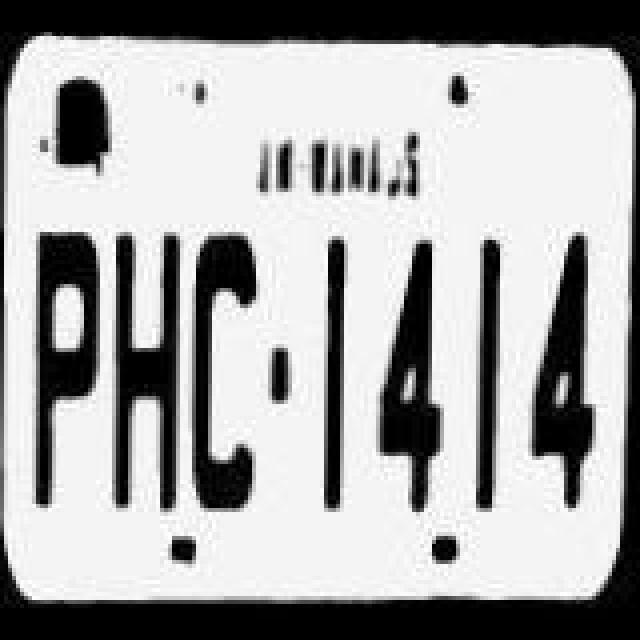1: (314, 228, 366, 512), (468, 236, 516, 512)
4: (528, 234, 608, 510), (376, 242, 456, 514)
C: (188, 234, 276, 522)
H: (108, 236, 188, 516)
P: (26, 228, 110, 508)
